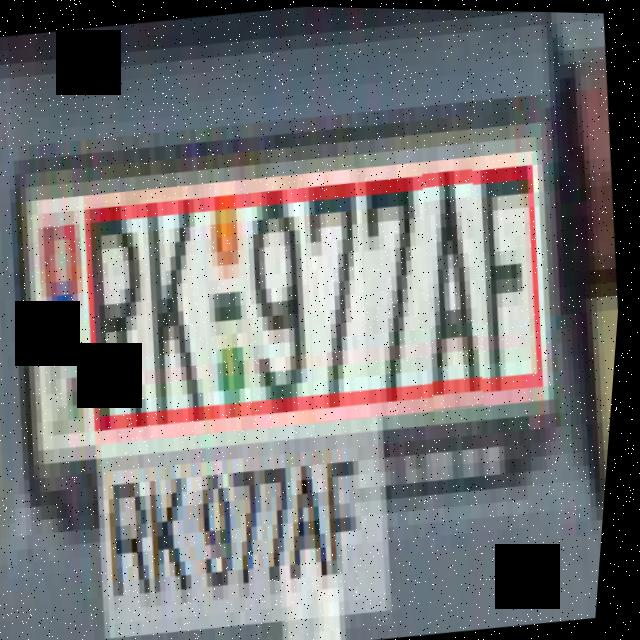7: (348, 155, 449, 410), (291, 163, 390, 420)
9: (231, 171, 335, 428)
A: (410, 160, 504, 409)
F: (460, 129, 567, 392)
K: (128, 191, 233, 438)
R: (75, 198, 170, 442)
